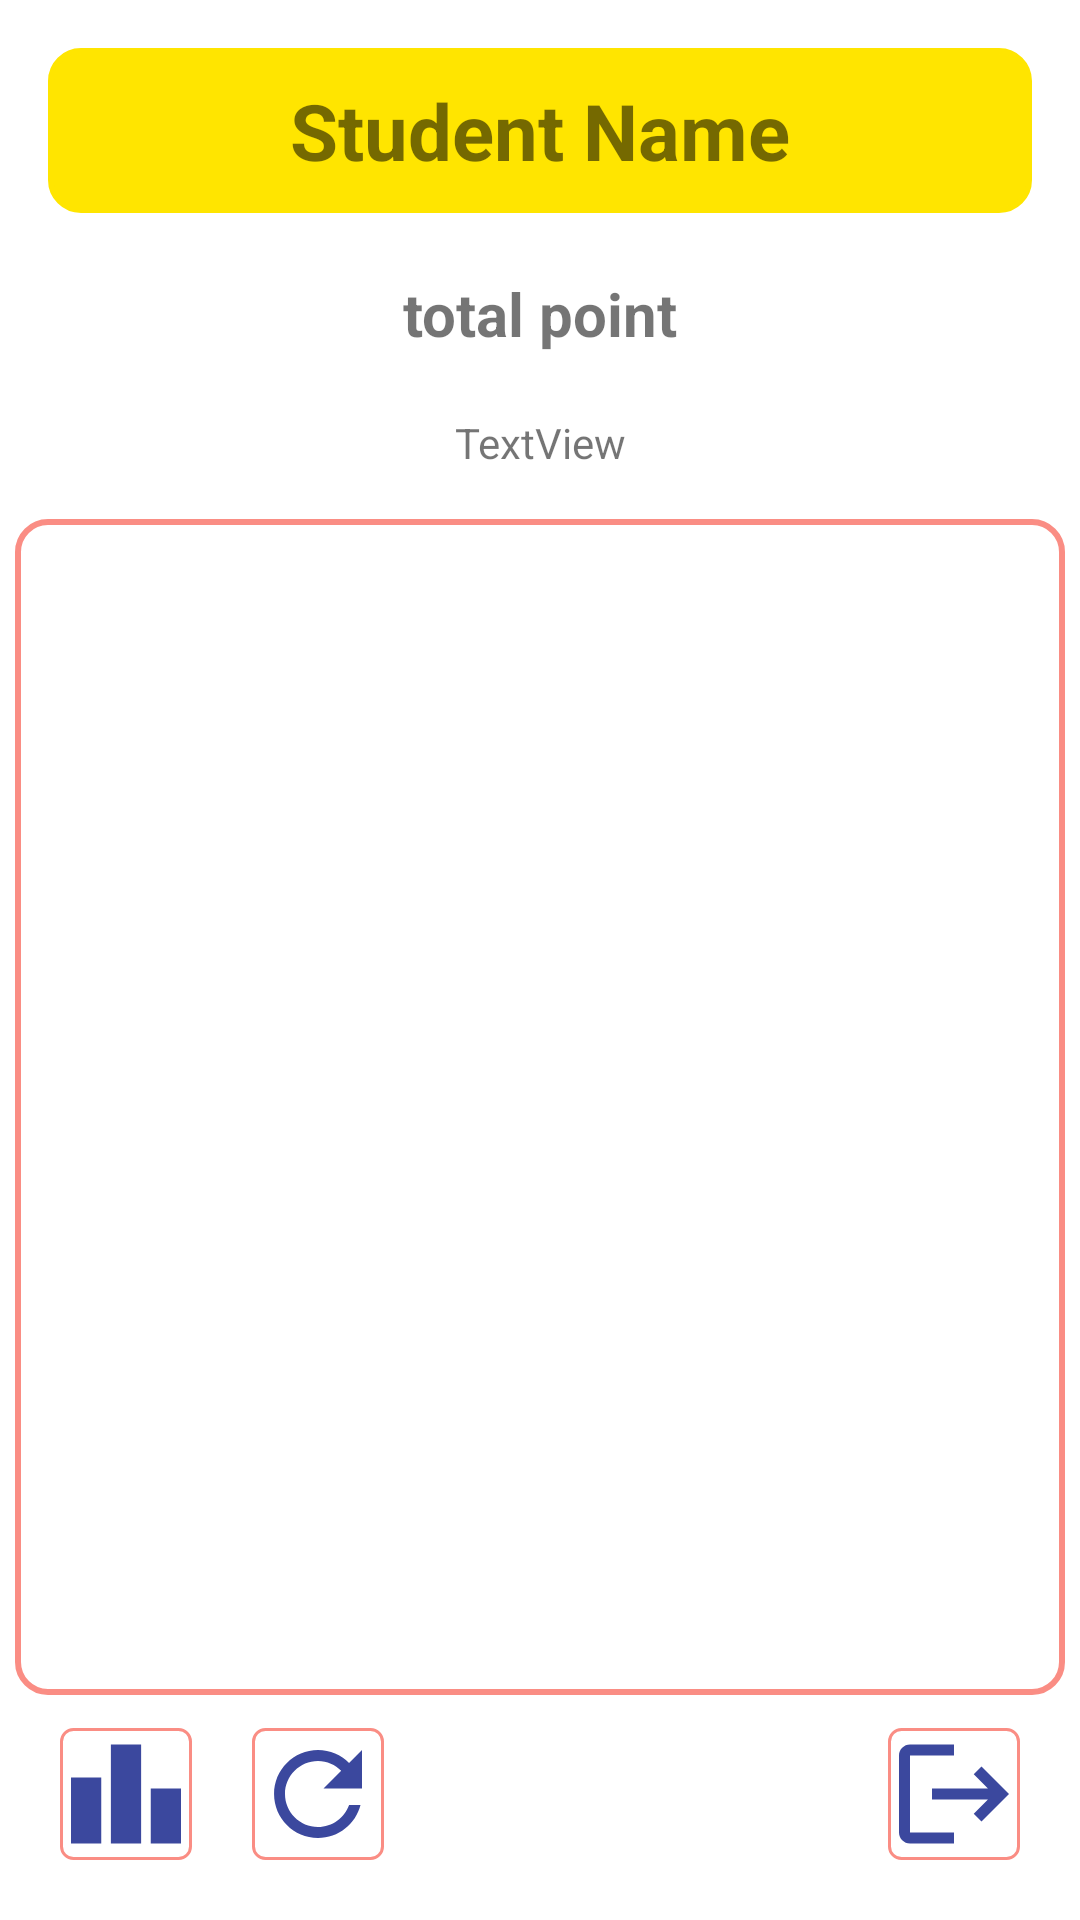

Locate icon controls on the screen. Image size 1080px×1920px, boxes as [x1=x1, y1=y1, x2=x2, y2=y2].
border leaderboard: [x1=60, y1=1728, x2=192, y2=1860]
border refresh: [x1=252, y1=1728, x2=384, y2=1860]
